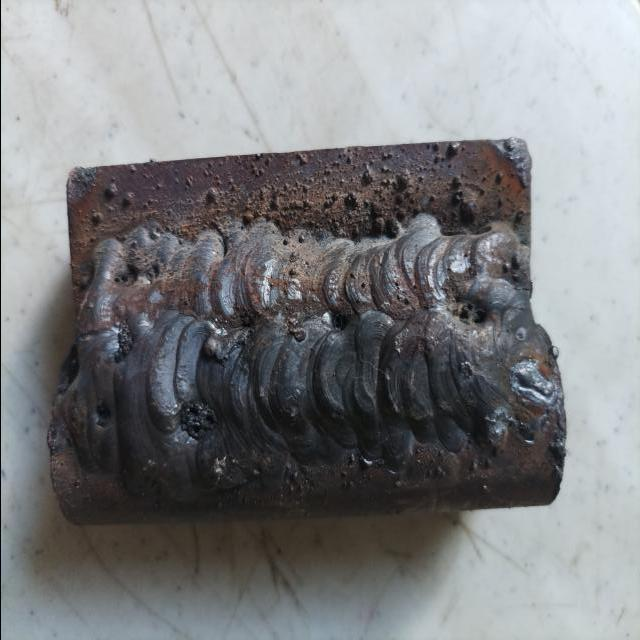defect: (175, 396, 216, 445), (111, 259, 162, 290), (107, 318, 136, 366), (452, 294, 489, 331), (331, 308, 355, 339), (94, 396, 112, 429), (458, 357, 473, 385)
